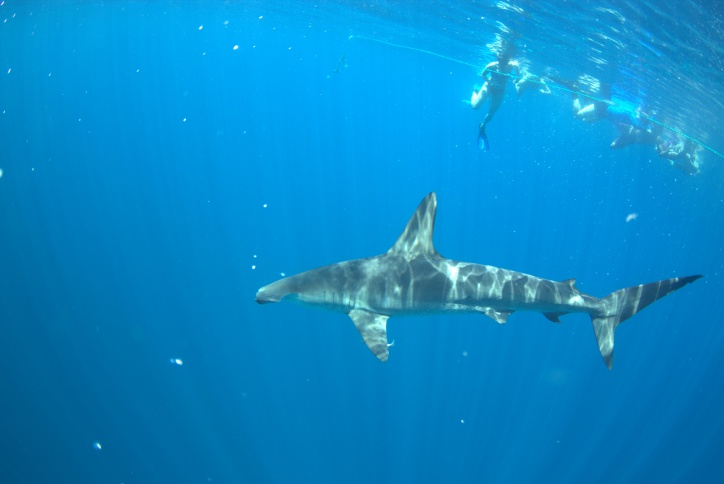Hammer: (262, 191, 724, 406)
